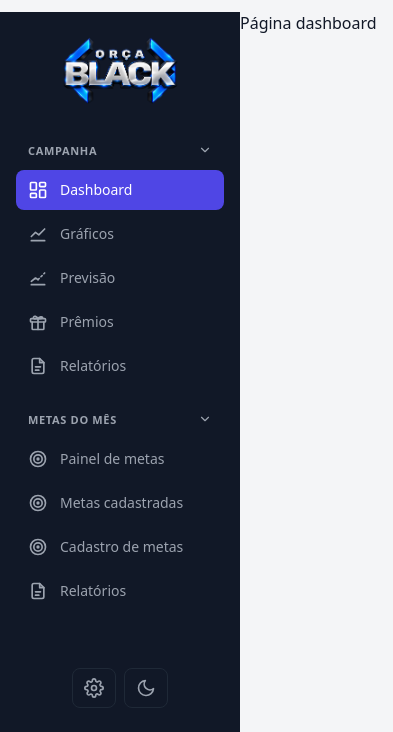
Test: AdminLayout › mostra o menu com Dashboard, abre no dashboard e as telas de administração ficam na engrenagem
The width and height of the screenshot is (393, 732).
Check: the navigation bar named "Menu principal" shows "Dashboard", box top-left (16, 170), bottom-right (224, 210)
Check: the navigation bar named "Menu principal" does not show "Erros", box top-left (16, 137), bottom-right (224, 611)
Click the button named "Administração".
click(94, 688)  # box top-left (72, 668), bottom-right (116, 708)
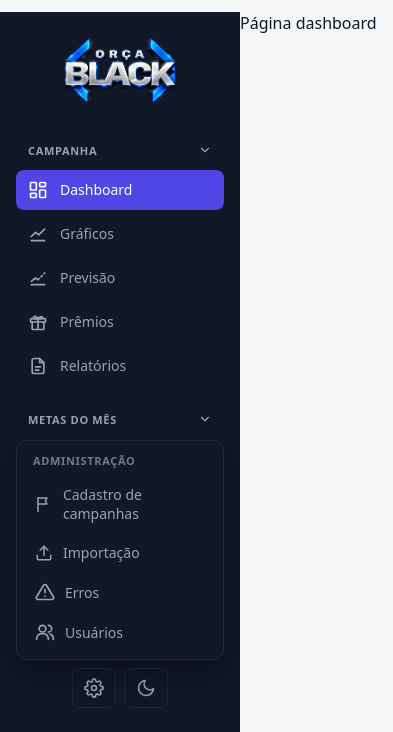
Check: the menu "Administração" shows "Erros", box top-left (25, 573), bottom-right (215, 611)
